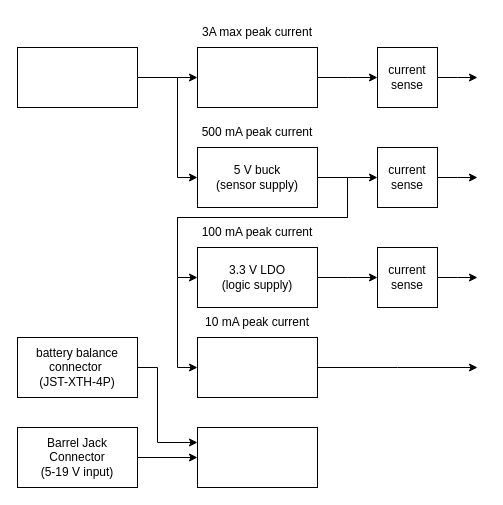
Image size: 503x505. Some labels were removed from this diagram. Each missing label, with the box of its shape:
11.1 V battery input (2 pin XT30?): (16, 46, 138, 108)
12 V buck-boost (motor supply): (196, 46, 318, 108)
3.3 V LDO (analog supply): (196, 336, 318, 398)
3S battery charger/monitor: (196, 426, 318, 488)
